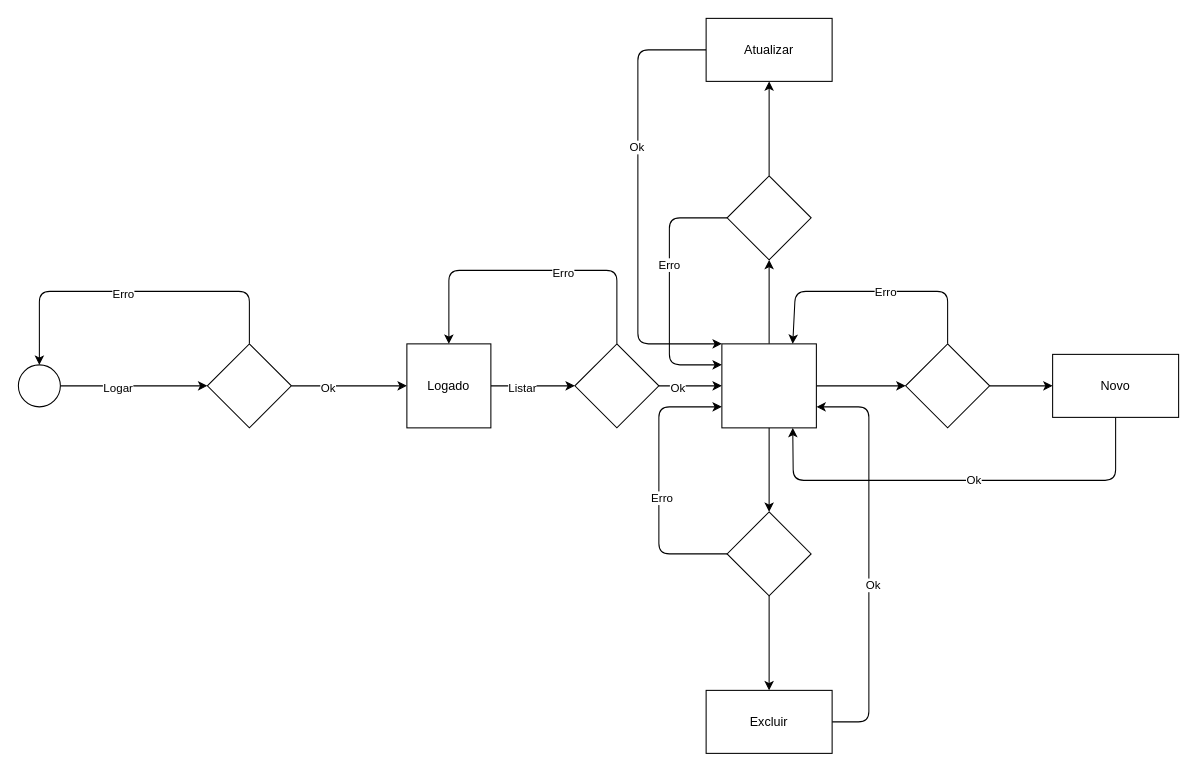
The diagram is 1197 pixels wide and 772 high, and some of its shapes have lost their labels. Here are the shapes that lost their labels. From the top down, the centre of each, then its label:
At point 38,385: "Start".
At point 768,385: "Lista".
